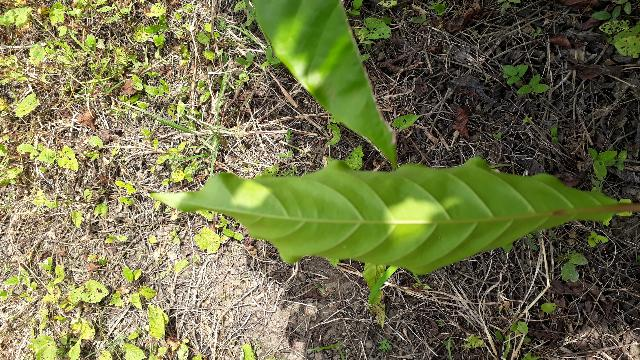red_spider_mite: (150, 156, 618, 275)
